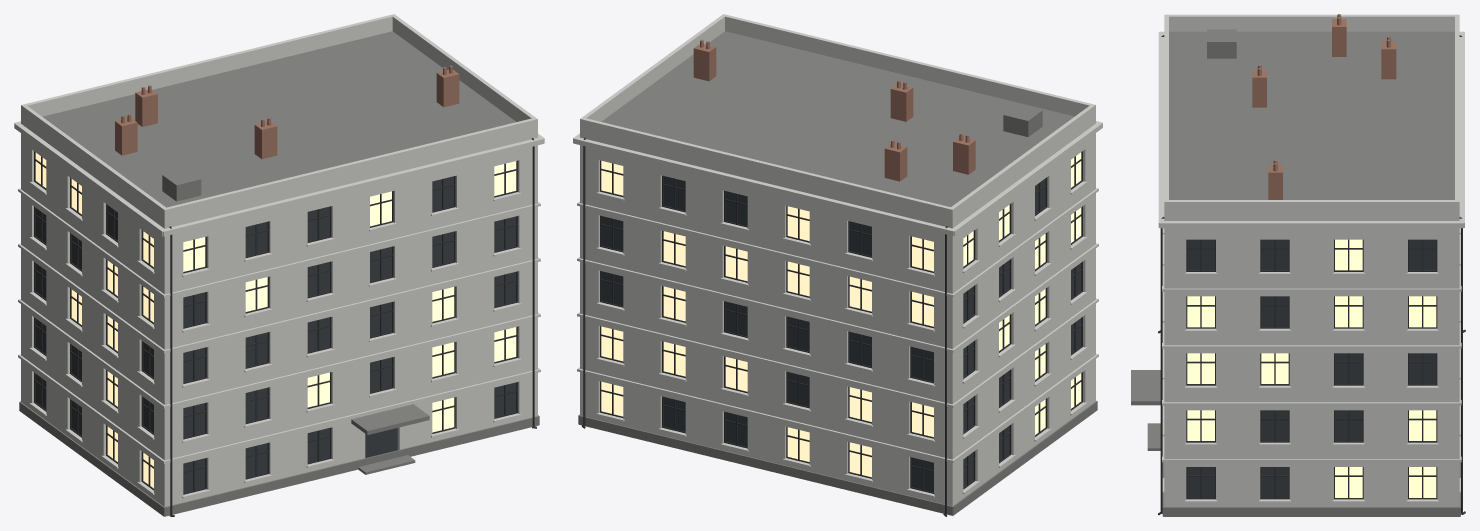
File: inner_block.glb
3 renders of one model, left to right at view 1: azimuth 30°, elevation 25°; view 2: azimuth 150°, elevation 25°; view 3: azimuth 270°, elevation 25°, orthographic. The views are drawn at different scales.
Visible parts, largest first — view 1: inner_block; view 2: inner_block; view 3: inner_block.
Part boxes in pixels (x1,y1,x2,y2): inner_block: [14, 14, 544, 516]; inner_block: [573, 14, 1102, 516]; inner_block: [1131, 14, 1465, 516].
Size of the model in its own units: 24.6 by 20.14 by 18.15.
